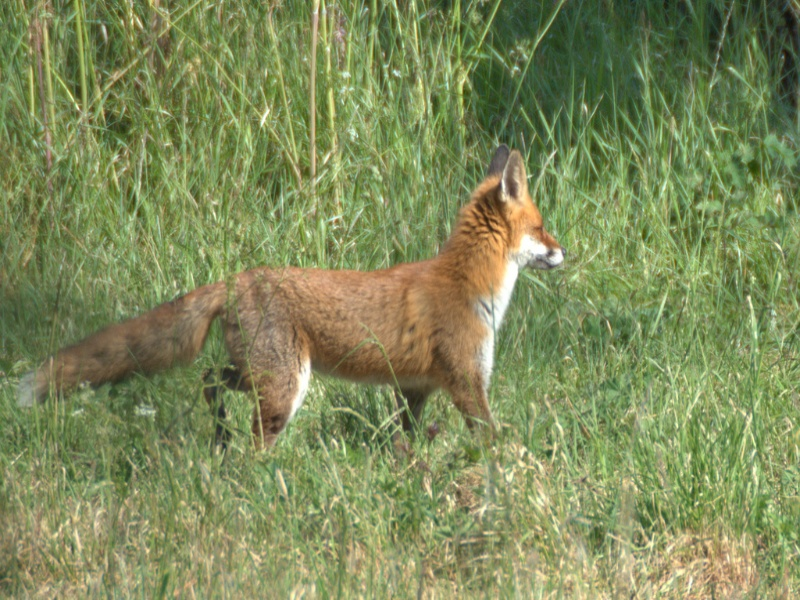fox: (11, 141, 565, 464)
